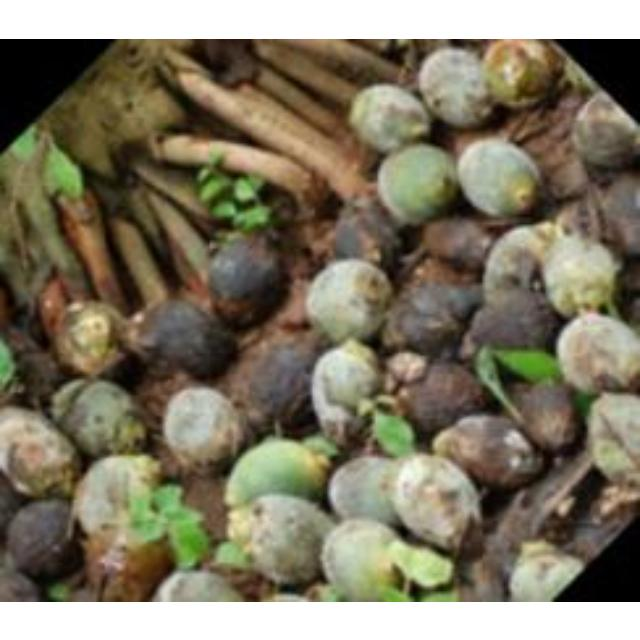damaged: (391, 453, 483, 553), (231, 334, 323, 430), (133, 298, 235, 380), (72, 452, 162, 538), (306, 258, 394, 344), (224, 436, 332, 506), (161, 386, 245, 474), (207, 234, 287, 326), (384, 280, 478, 356), (395, 360, 487, 436), (456, 138, 542, 218), (462, 287, 558, 357), (377, 143, 458, 225), (348, 82, 428, 154), (330, 200, 402, 268), (420, 216, 494, 272)
